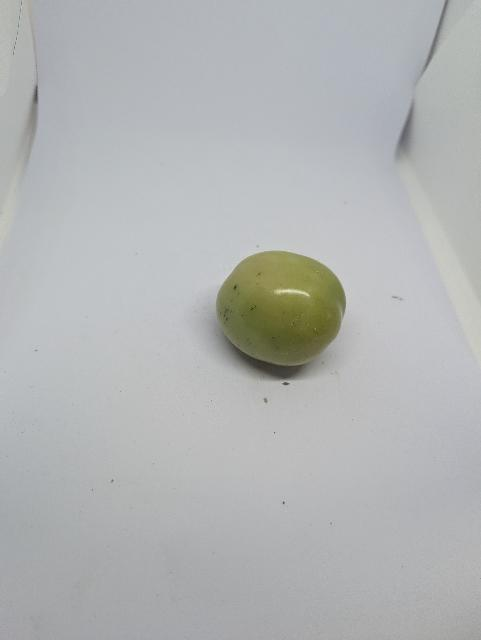green: (213, 247, 350, 368)
